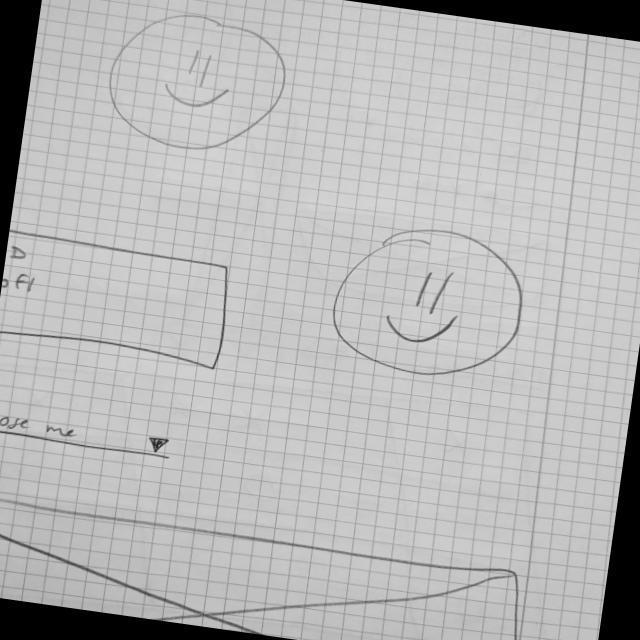container: (1, 225, 242, 373)
icon-button: (321, 216, 539, 392), (99, 2, 300, 167)
image: (1, 492, 543, 640)
label: (1, 268, 44, 302), (6, 239, 42, 267)
select: (1, 407, 178, 464)
